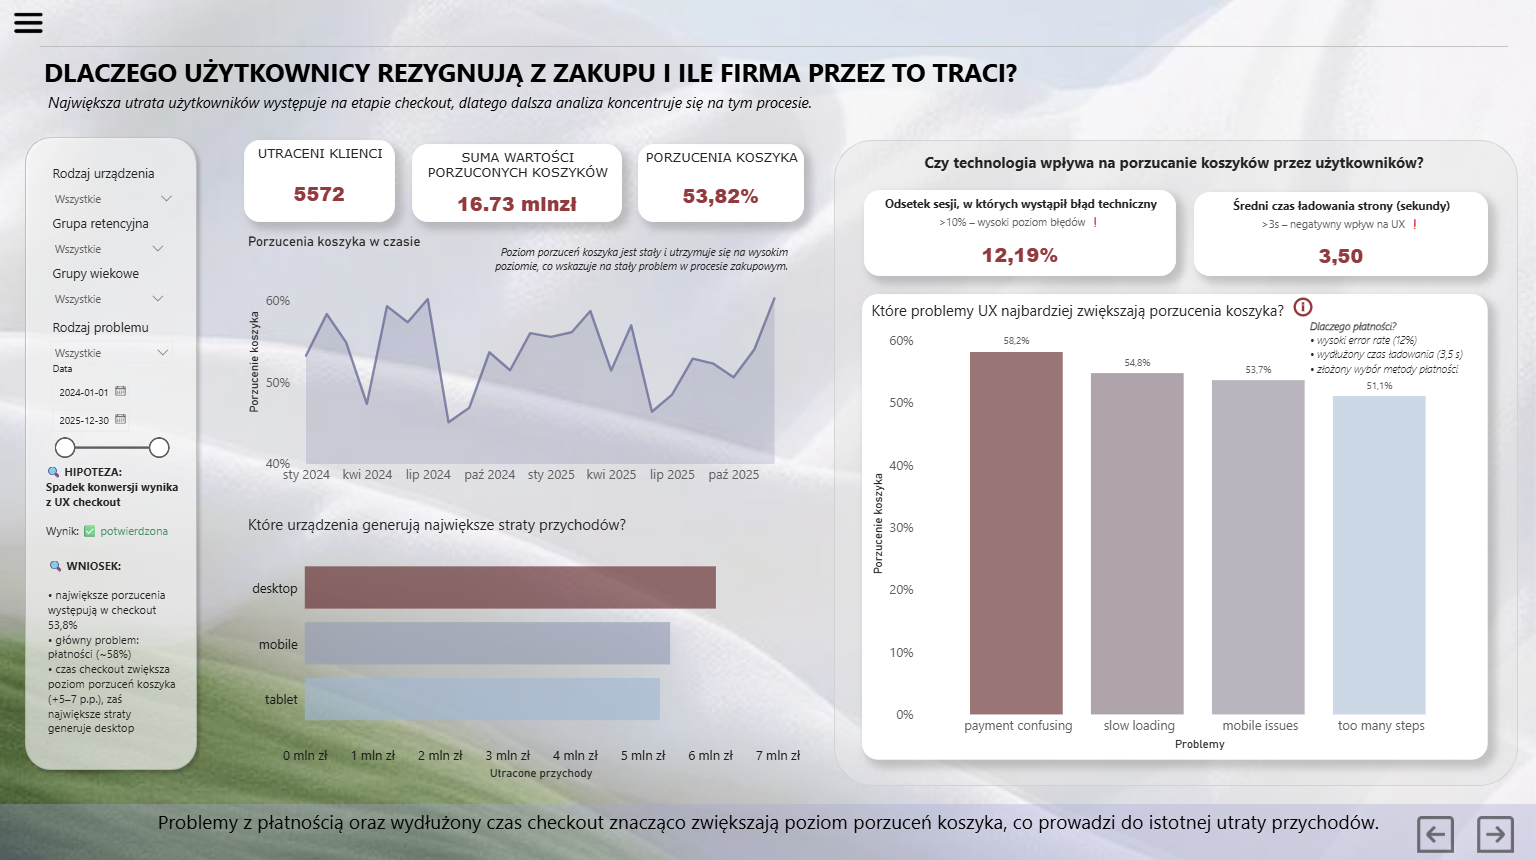

Layout of this report page (visuals, bound fields, positions):
{"tool":"powerbi","page":{"name":"ANALIZA UX (KOSZYK)","canvas":[1920,1080],"ordinal":2},"visuals":[{"type":"shape","box":[23.5,164.7,232.4,808.8],"z":1000},{"type":"shape","box":[0,138.7,279,869.4],"z":2000},{"type":"shape","box":[1042.5,177.5,855,807.5],"z":3000},{"type":"cardVisual","title":"Odsetek sesji, w których wystąpił błąd techniczny","fields":{"Data":["KPI.# Error Rate"]},"box":[1080,240,390,107.5],"z":4000},{"type":"scatterChart","title":"Wpływ czasu ładowania na konwersję - Wraz ze wzrostem czasu ładowania spada współczynnik konwersji, co świadczy o negatywnym wpływie wydajności na zachowanie użytkowników.","fields":{"Category":["fact_ecommerce.user_session"],"Series":["fact_ecommerce.device"],"Size":["KPI.# Revenue"],"X":["Sum(fact_ecommerce.loading_time_sec)"],"Y":["KPI.# Conversion"]},"box":[1117.9,600,702.6,284.6],"z":5000},{"type":"cardVisual","title":"Średni czas ładowania strony (sekundy)","fields":{"Data":["KPI.# Avg Loading"]},"box":[1492.5,242.5,367.5,105],"z":6000},{"type":"clusteredBarChart","title":"Które urządzenia generują największe straty przychodów?","fields":{"Category":["fact_ecommerce.device"],"Y":["KPI.# Lost Revenue"]},"box":[305.7,645.7,700,337.1],"z":7000},{"type":"textbox","box":[53.8,69.2,1817.9,71.8],"z":8000},{"type":"cardVisual","title":"SUMA WARTOŚCI PORZUCONYCH KOSZYKÓW","fields":{"Data":["KPI.# Lost Revenue"]},"box":[515,182.5,262.5,97.5],"z":9000},{"type":"cardVisual","title":"PORZUCENIA KOSZYKA","fields":{"Data":["KPI.# Cart Abandonment"]},"box":[797.5,182.5,207.5,97.5],"z":10000},{"type":"lineChart","title":"Porzucenia koszyka w czasie ","fields":{"Category":["Calendar.Date.Odmiana.Hierarchia dat.Rok","Calendar.Date.Odmiana.Hierarchia dat.Kwartał","Calendar.Date.Odmiana.Hierarchia dat.Miesiąc","Calendar.Date.Odmiana.Hierarchia dat.Dzień"],"Y":["KPI.# Cart Abandonment"]},"box":[305,295,700,322.5],"z":11000},{"type":"textbox","box":[0,1008.3,1920.8,70.8],"z":12000},{"type":"textbox","box":[53.8,694.9,171.8,256.4],"z":13000},{"type":"textbox","box":[607.5,302.5,382.5,60],"z":14000},{"type":"textbox","box":[53.8,107.7,1053.8,56.4],"z":15000},{"type":"cardVisual","title":"UTRACENI KLIENCI","fields":{"Data":["KPI.# Lost Customer"]},"box":[304.7,176.7,188.4,102.3],"z":16000},{"type":"columnChart","title":"Które problemy UX najbardziej zwiększają porzucenia koszyka?","fields":{"Category":["ux_survey.pain_point"],"Y":["KPI.# Cart Abandonment %"]},"box":[1076.9,369.2,782.1,582.1],"z":17000},{"type":"textbox","box":[53.1,578.1,182.8,118.8],"z":18000},{"type":"textbox","box":[1632.6,395.3,227.9,83.7],"z":19000},{"type":"slicer","fields":{"Values":["fact_ecommerce.device"]},"box":[53.1,203.1,178.1,60.9],"z":20000},{"type":"slicer","fields":{"Values":["users.age_group"]},"box":[53.1,328.1,167.2,67.2],"z":21000},{"type":"slicer","fields":{"Values":["Calendar.Date"]},"box":[53.1,450,167.2,128.1],"z":22000},{"type":"slicer","fields":{"Values":["ux_survey.pain_point"]},"box":[53.1,395.3,173.4,81.2],"z":23000},{"type":"slicer","fields":{"Values":["ux_survey.retention_group"]},"box":[53.1,264.1,167.2,64.1],"z":24000},{"type":"textbox","box":[50,54.8,1835.7,45.2],"z":26000},{"type":"textbox","box":[1062.5,187.5,810,45],"z":27000},{"type":"image","box":[1743.2,1023,104.1,45.9],"z":28000},{"type":"image","box":[1827,1021.6,83.8,45.9],"z":29000},{"type":"actionButton","box":[1611.6,369.8,86,32.6],"z":30000},{"type":"image","box":[0,8.2,71.4,46.9],"z":32000}]}

Visuals, with their boxes in screenshot pixels (x1, y1, x2, y2), scaled from the page's 1920x1080 canvas onto the 1536x860 screenshot:
shape: 19,131,205,775
shape: 0,110,223,803
shape: 834,141,1518,784
"Odsetek sesji, w których wystąpił błąd techniczny" cardVisual: 864,191,1176,277
"Wpływ czasu ładowania na konwersję - Wraz ze wzrostem czasu ładowania spada współczynnik konwersji, co świadczy o negatywnym wpływie wydajności na zachowanie użytkowników." scatterChart: 894,478,1456,704
"Średni czas ładowania strony (sekundy)" cardVisual: 1194,193,1488,277
"Które urządzenia generują największe straty przychodów?" clusteredBarChart: 245,514,805,783
textbox: 43,55,1497,112
"SUMA WARTOŚCI PORZUCONYCH KOSZYKÓW" cardVisual: 412,145,622,223
"PORZUCENIA KOSZYKA" cardVisual: 638,145,804,223
"Porzucenia koszyka w czasie " lineChart: 244,235,804,492
textbox: 0,803,1535,859
textbox: 43,553,180,758
textbox: 486,241,792,289
textbox: 43,86,886,131
"UTRACENI KLIENCI" cardVisual: 244,141,394,222
"Które problemy UX najbardziej zwiększają porzucenia koszyka?" columnChart: 862,294,1487,758
textbox: 42,460,189,555
textbox: 1306,315,1488,381
slicer - fact_ecommerce.device: 42,162,185,210
slicer - users.age_group: 42,261,176,315
slicer - Calendar.Date: 42,358,176,460
slicer - ux_survey.pain_point: 42,315,181,379
slicer - ux_survey.retention_group: 42,210,176,261
textbox: 40,44,1509,80
textbox: 850,149,1498,185
image: 1395,815,1478,851
image: 1462,813,1529,850
actionButton: 1289,294,1358,320
image: 0,7,57,44
